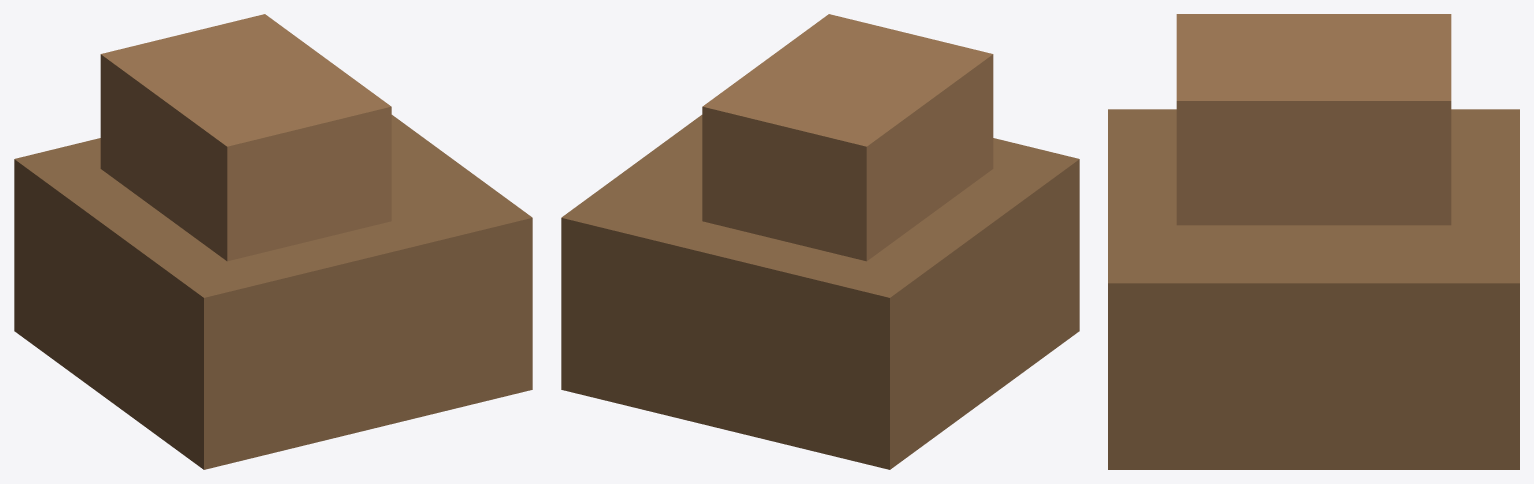
The model's file is jarra_licor_fuerte_casino_01.glb.
3 renders of one model, left to right at view 1: azimuth 30°, elevation 25°; view 2: azimuth 150°, elevation 25°; view 3: azimuth 270°, elevation 25°, orthographic. The views are drawn at different scales.
Parts seen in each view (by area): view 1: jarra_licor_fuerte_casino; view 2: jarra_licor_fuerte_casino; view 3: jarra_licor_fuerte_casino.
Boxes of the visible parts, x1,y1,x2,y2 form: jarra_licor_fuerte_casino: (14,14,532,469); jarra_licor_fuerte_casino: (561,14,1079,469); jarra_licor_fuerte_casino: (1108,14,1519,469).
Size of the model in its own units: 0.6 by 0.5 by 0.6.
